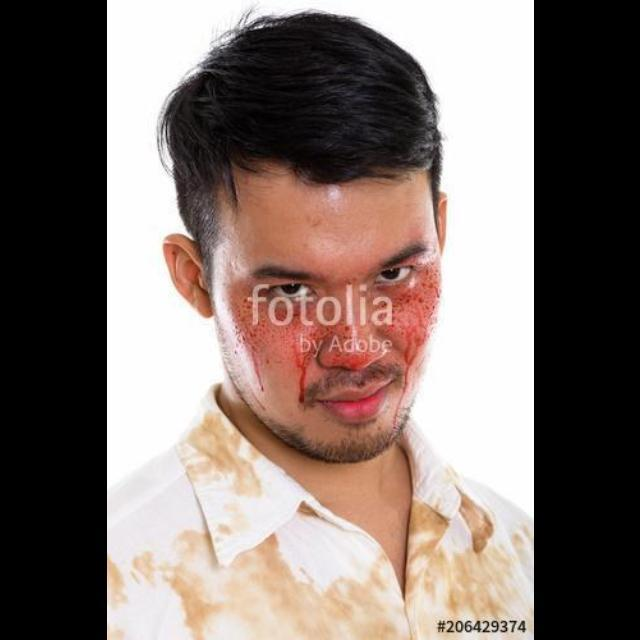blood: (237, 247, 442, 439)
